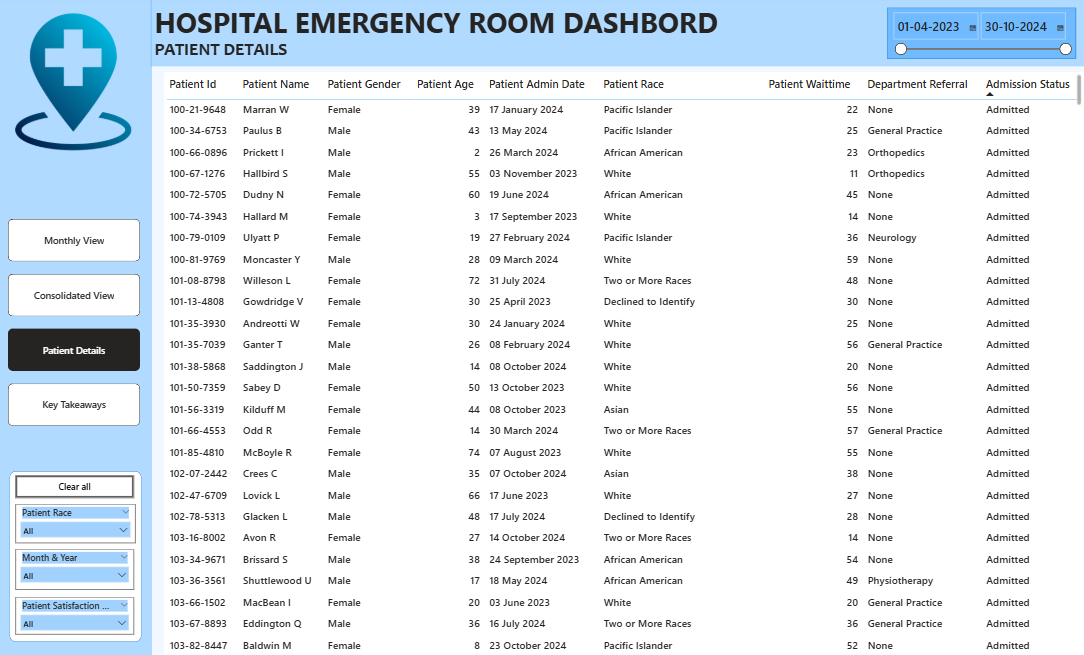

Layout of this report page (visuals, bound fields, positions):
{"tool":"powerbi","page":{"name":"Patient Details","canvas":[2300,1400],"ordinal":2},"visuals":[{"type":"shape","box":[0,0,321.1,1401.1],"z":0},{"type":"shape","box":[319.2,0,1979.7,139.2],"z":1000},{"type":"textbox","box":[321.1,0,1212.2,94.5],"z":2000},{"type":"textbox","box":[321.1,75.6,396.7,59.8],"z":3000},{"type":"slicer","fields":{"Values":["Date Table.Date"]},"box":[1863.9,15.7,396.7,107],"z":4000},{"type":"image","box":[6.3,22,299.1,299.1],"z":5000},{"type":"tableEx","fields":{"Values":["Hospital ER_Data.Patient Id","Hospital ER_Data.Patient Full Name","Hospital ER_Data.Patient Gender","Sum(Hospital ER_Data.Patient Age)","Hospital ER_Data.Patiernt Admin Date","Hospital ER_Data.Patient Race","Sum(Hospital ER_Data.Patient Waittime)","Hospital ER_Data.Department Referral","Hospital ER_Data.Admission Status"]},"box":[346.3,151.1,1930,1250],"z":6000},{"type":"pageNavigator","box":[18.9,459.7,277.1,434.5],"z":7000},{"type":"shape","box":[23.3,989.4,277.1,358.9],"z":8000,"group":"g1"},{"type":"slicer","fields":{"Values":["Hospital ER_Data.Patient Race"]},"box":[35.9,1058.7,251.9,81.9],"z":9000,"group":"g1"},{"type":"group","id":"g1","title":"Group 1","box":[23.3,989.4,277.1,358.9],"z":9500,"group":"g2"},{"type":"slicer","fields":{"Values":["Date Table.Month & Year"]},"box":[35.9,1153.1,248.7,85],"z":10000,"group":"g1"},{"type":"slicer","fields":{"Values":["Hospital ER_Data.Patient Satisfaction Score"]},"box":[35.9,1253.9,248.7,78.7],"z":11000,"group":"g1"},{"type":"actionButton","box":[35.9,998.8,248.7,47.2],"z":12000,"group":"g2"},{"type":"group","id":"g2","title":"Group 2","box":[23.3,989.4,277.1,358.9],"z":12001}]}

Visuals, with their boxes in screenshot pixels (x1, y1, x2, y2), scaled from the page's 2300x1400 canvas onto the 1084x655 screenshot:
shape: box(0, 0, 151, 654)
shape: box(150, 0, 1083, 65)
textbox: box(151, 0, 723, 44)
textbox: box(151, 35, 338, 63)
slicer - Date Table.Date: box(878, 7, 1065, 57)
image: box(3, 10, 144, 150)
tableEx - Hospital ER_Data.Patient Id x Hospital ER_Data.Patient Full Name: box(163, 71, 1073, 654)
pageNavigator: box(9, 215, 140, 418)
shape: box(11, 463, 142, 631)
slicer - Hospital ER_Data.Patient Race: box(17, 495, 136, 534)
"Group 1" group: box(11, 463, 142, 631)
slicer - Date Table.Month & Year: box(17, 539, 134, 579)
slicer - Hospital ER_Data.Patient Satisfaction Score: box(17, 587, 134, 623)
actionButton: box(17, 467, 134, 489)
"Group 2" group: box(11, 463, 142, 631)
